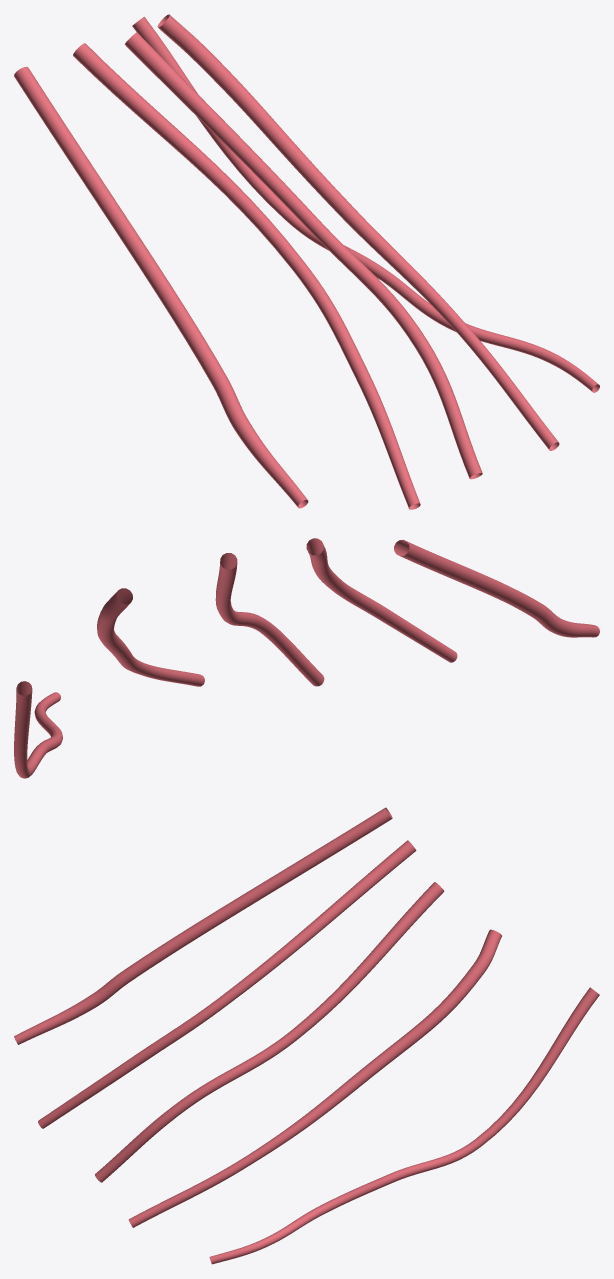
3 views of the same model, one above another, from view 1: azimuth 30°, elevation 25°; view 2: azimuth 150°, elevation 25°; view 3: azimuth 270°, elevation 25° (orthographic). The views are drawn at different scales.
Parts seen in each view (by area): view 1: ZA_59f469b05726e98c; view 2: ZA_59f469b05726e98c; view 3: ZA_59f469b05726e98c.
Boxes of the visible parts, bbox=[...] form: ZA_59f469b05726e98c: bbox=[14, 14, 599, 509]; ZA_59f469b05726e98c: bbox=[14, 538, 599, 778]; ZA_59f469b05726e98c: bbox=[14, 807, 599, 1264].
Bounding box in the file's own units: 0.0611 × 0.0441 × 0.0837.
